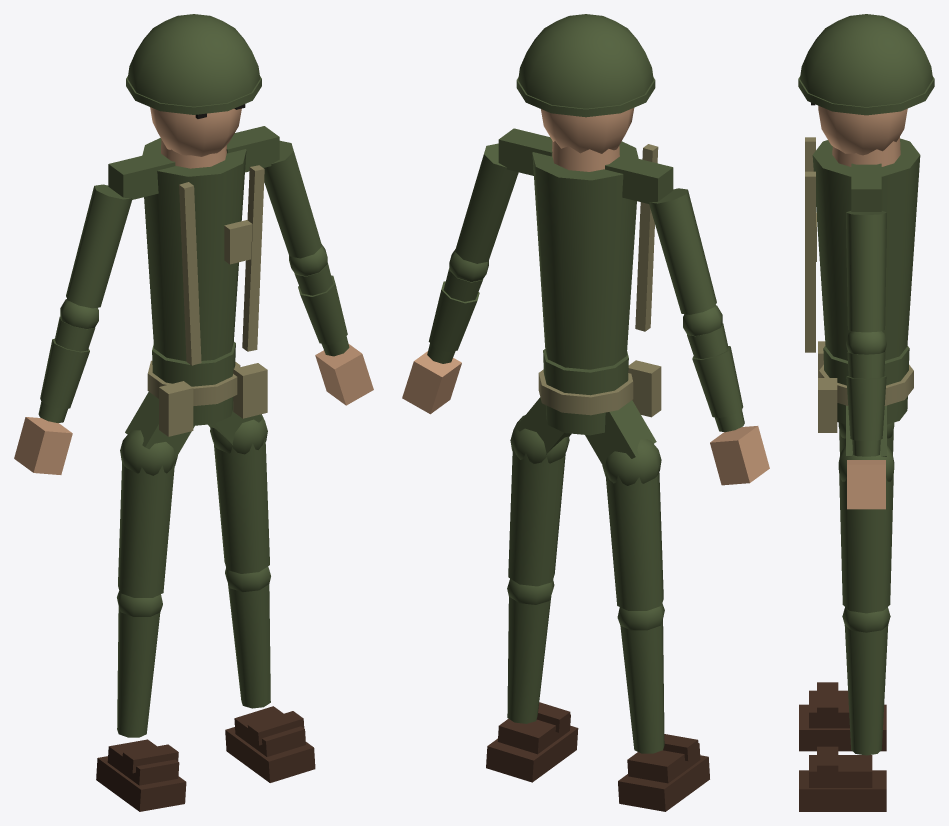
Rendered from soldier-body.glb.
3 views of the same model, side by side, from view 1: azimuth 30°, elevation 25°; view 2: azimuth 150°, elevation 25°; view 3: azimuth 270°, elevation 25° (orthographic). The views are drawn at different scales.
Parts seen in each view (by area): view 1: FittedTorso, Helmet, Thigh-1, Thigh1, Webbing (×2), UpperArm-1, Shin-1, Shin1, UpperArm1, ShoulderLink (×2), AmmoPouch (×2), Face (+22 smaller); view 2: FittedTorso, Helmet, Thigh-1, Thigh1, UpperArm-1, Shin-1, Shin1, UpperArm1, ShoulderLink (×2), Waist, Face, Hand-1 (+20 smaller); view 3: FittedTorso, Helmet, Thigh1, UpperArm1, Shin1, Face, Sandal1, Webbing (×2), Bracer1, Hand1, Waist, Foot1 (+14 smaller).
Boxes of the visible parts, x1,y1,x2,y2 form: FittedTorso: (142, 138, 246, 361); Helmet: (127, 14, 260, 106); Thigh-1: (118, 462, 174, 597); Thigh1: (213, 437, 269, 573); Webbing (×2): (179, 165, 264, 365); UpperArm-1: (66, 184, 131, 308); Shin-1: (117, 607, 160, 737); Shin1: (228, 584, 270, 708); UpperArm1: (263, 140, 321, 258); ShoulderLink (×2): (108, 126, 279, 199); AmmoPouch (×2): (159, 363, 267, 436); Face: (150, 107, 241, 156); FittedTorso: (532, 141, 638, 369); Helmet: (518, 14, 653, 108); Thigh-1: (605, 471, 663, 610); Thigh1: (508, 447, 565, 586); UpperArm-1: (649, 188, 716, 314); Shin-1: (620, 620, 664, 753); Shin1: (507, 596, 551, 723); UpperArm1: (455, 143, 518, 263); ShoulderLink (×2): (498, 128, 673, 204); Waist: (543, 349, 628, 435); Face: (541, 108, 634, 153); Hand-1: (710, 426, 769, 485); FittedTorso: (812, 138, 920, 360); Helmet: (800, 14, 932, 106); Thigh1: (839, 472, 893, 613); UpperArm1: (846, 211, 886, 332); Shin1: (844, 625, 888, 755); Face: (818, 106, 907, 155); Sandal1: (799, 770, 886, 811); Webbing (×2): (805, 137, 815, 352); Bracer1: (846, 376, 886, 441); Hand1: (847, 460, 885, 509); Waist: (823, 345, 909, 424); Foot1: (809, 755, 872, 787).
Size of the model in its own units: 0.9158 by 1.93 by 0.3165.
